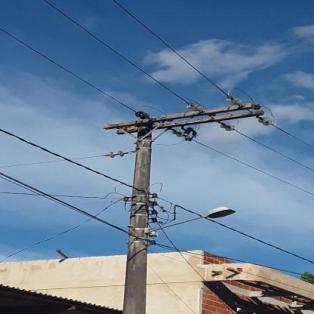Poste: (114, 111, 166, 314)
